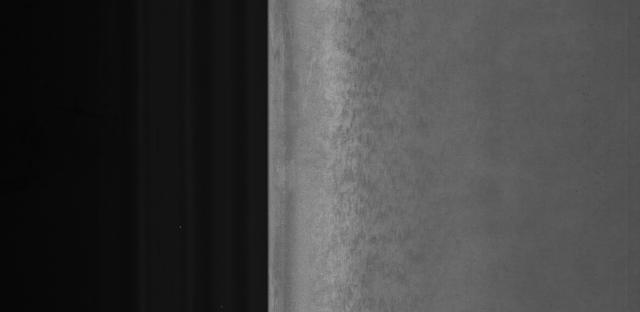silk_spot: (331, 38, 413, 293)
